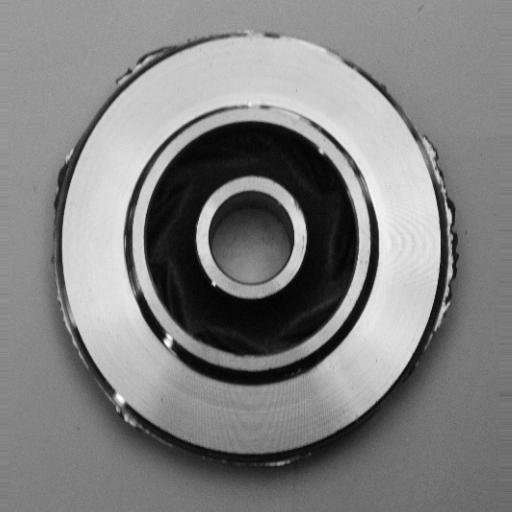casting_with_burr: (43, 29, 458, 472)
scratch: (247, 95, 317, 130), (149, 316, 189, 363)
